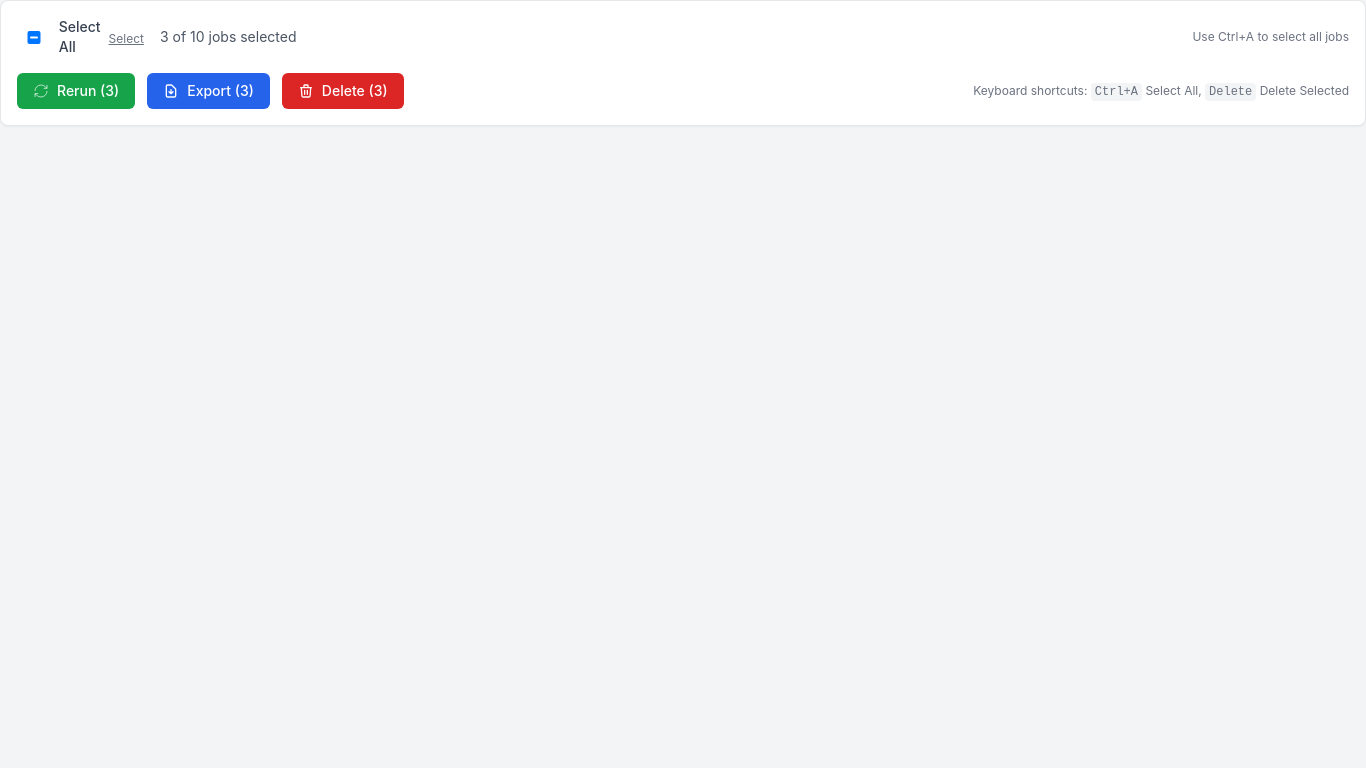
Test: BatchOperationsToolbar › shows confirmation dialog for delete operation
The width and height of the screenshot is (1366, 768).
Click the button "Delete (3)". click: (343, 91)
box: [282,73,404,109]
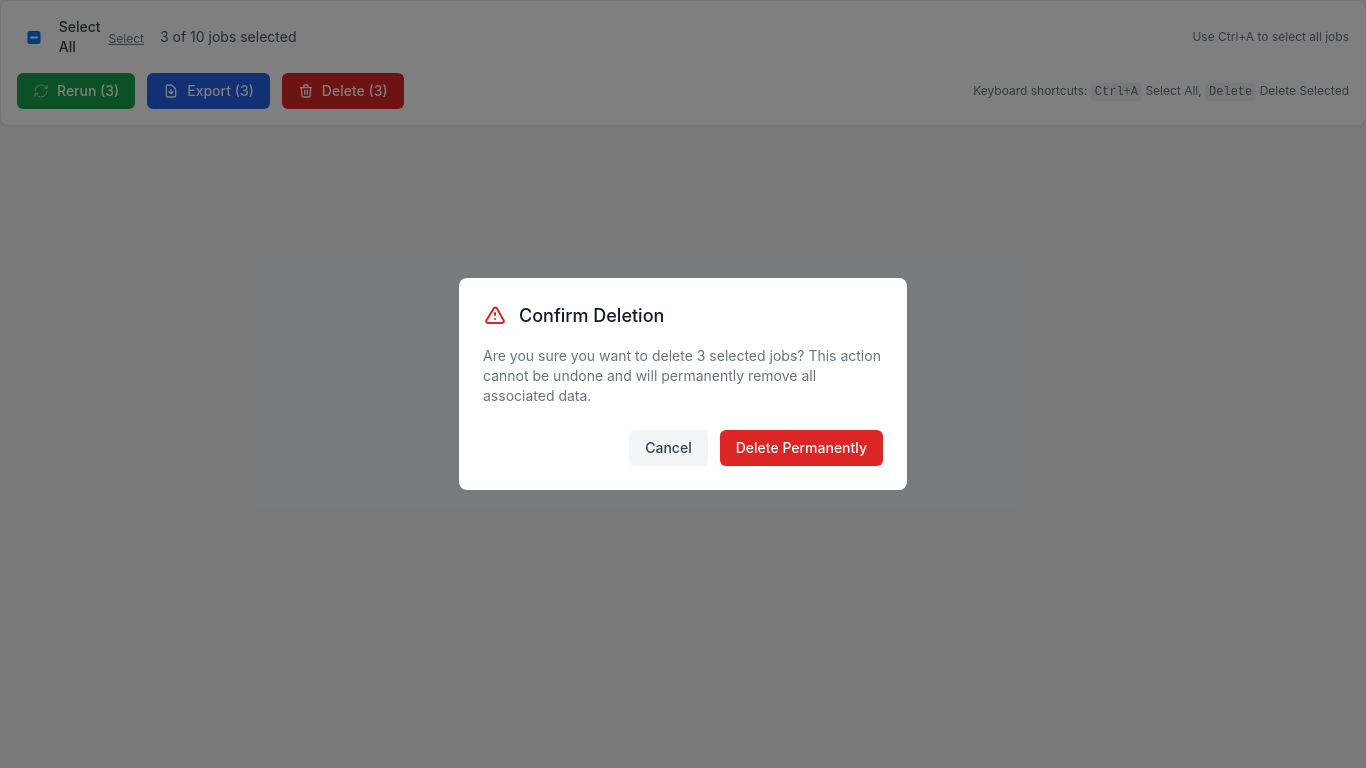
Check: the heading "Confirm Deletion" is shown, box [519,302,664,330]
Check: the text "Are you sure you want to delete 3 selected job" is shown, box [483,346,883,406]
